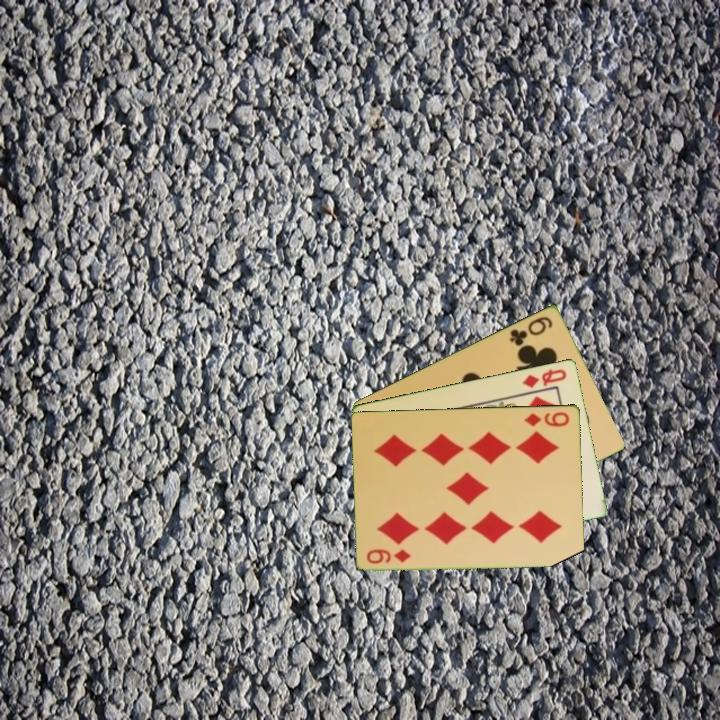6c: (506, 312, 556, 349)
9d: (521, 408, 572, 429), (363, 546, 414, 566)
Qd: (518, 365, 570, 391)
